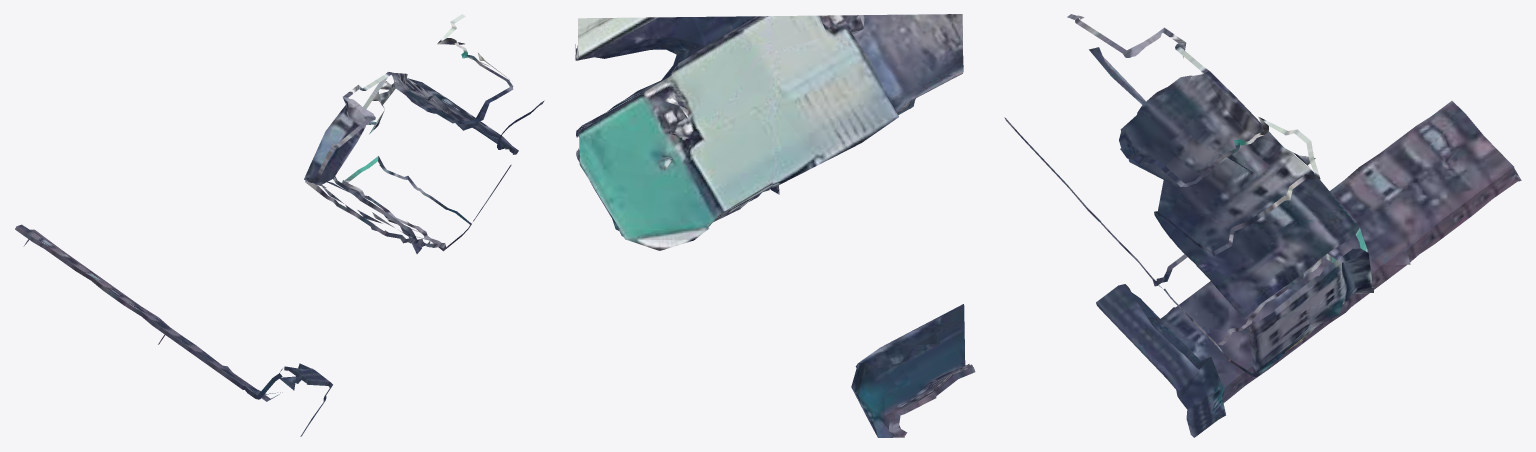
The picture shows the model from 3 angles, left to right: view 1: azimuth 30°, elevation 25°; view 2: azimuth 150°, elevation 25°; view 3: azimuth 270°, elevation 25°; orthographic projection. The views are drawn at different scales.
Bounding box in the file's own units: 53.53 × 40.1 × 43.94.
1 material, 1 textured.
